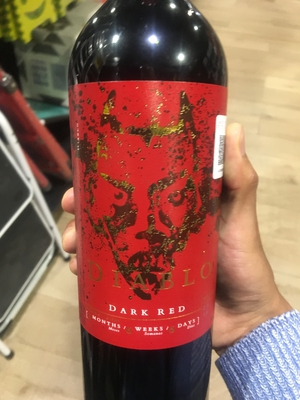diablo dark red: (60, 6, 240, 372)
